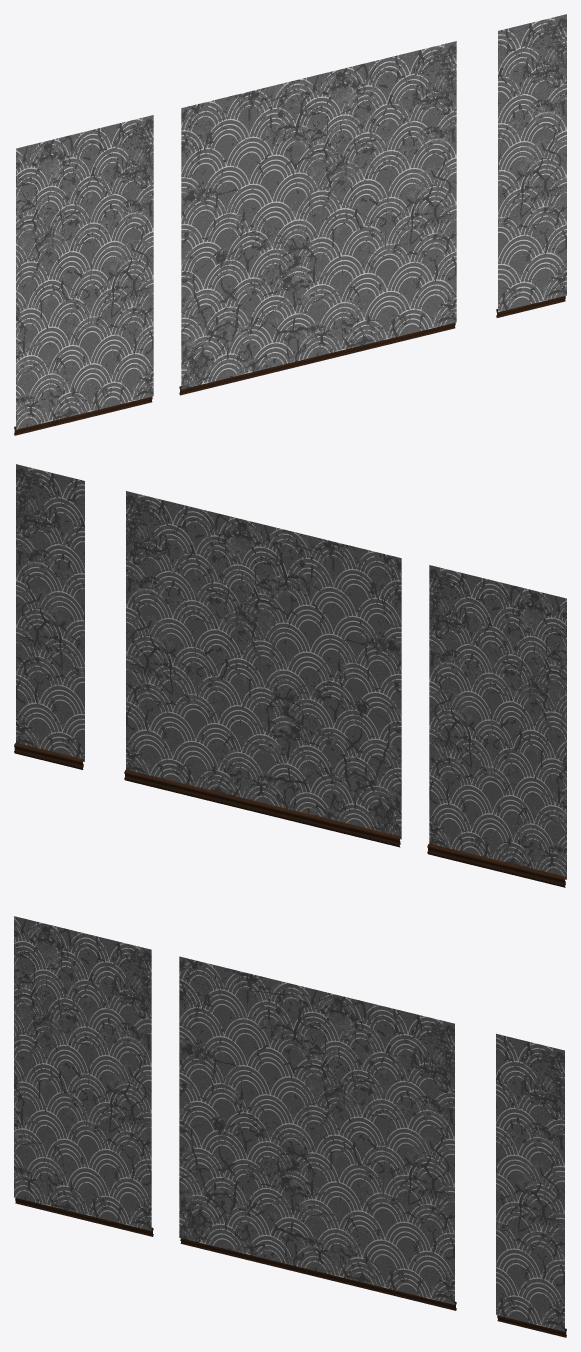
File: walls_solid_v002.fbx
3 views of the same model, one above another, from view 1: azimuth 30°, elevation 25°; view 2: azimuth 150°, elevation 25°; view 3: azimuth 330°, elevation 25° (orthographic).
Visible parts, largest first — view 1: wall_sold_4m, wall_solid_2m, wall_solid_1m; view 2: wall_sold_4m, wall_solid_2m, wall_solid_1m; view 3: wall_sold_4m, wall_solid_2m, wall_solid_1m.
Boxes of the visible parts, bbox=[...] form: wall_sold_4m: bbox=[179, 41, 456, 395]; wall_solid_2m: bbox=[14, 115, 153, 435]; wall_solid_1m: bbox=[496, 14, 566, 317]; wall_sold_4m: bbox=[124, 491, 401, 847]; wall_solid_2m: bbox=[427, 565, 566, 887]; wall_solid_1m: bbox=[14, 464, 84, 769]; wall_sold_4m: bbox=[179, 956, 456, 1310]; wall_solid_2m: bbox=[14, 916, 153, 1236]; wall_solid_1m: bbox=[496, 1033, 566, 1337].
Bounding box in the file's own units: 800 × 400 × 4.91.
